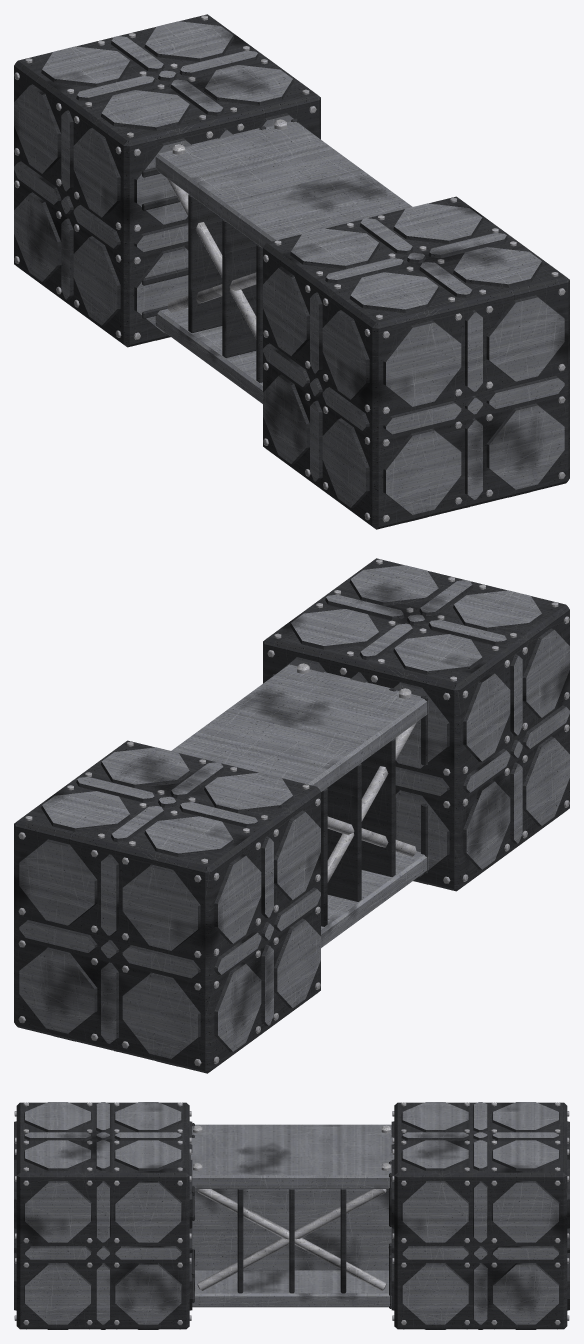
File: R4C_STRUT_STANDARD.glb
The picture shows the model from 3 angles, top to bottom: view 1: azimuth 30°, elevation 25°; view 2: azimuth 150°, elevation 25°; view 3: azimuth 270°, elevation 25°; orthographic projection. The views are drawn at different scales.
Visible parts, largest first — view 1: R4C_STRUT_STANDARD; view 2: R4C_STRUT_STANDARD; view 3: R4C_STRUT_STANDARD.
Boxes of the visible parts, left/top/right/bottom form: R4C_STRUT_STANDARD: left=14, top=14, right=569, bottom=529; R4C_STRUT_STANDARD: left=14, top=558, right=569, bottom=1073; R4C_STRUT_STANDARD: left=14, top=1102, right=569, bottom=1329.
Size of the model in its own units: 0.52 by 0.52 by 1.62.
3 materials, 3 textured.
